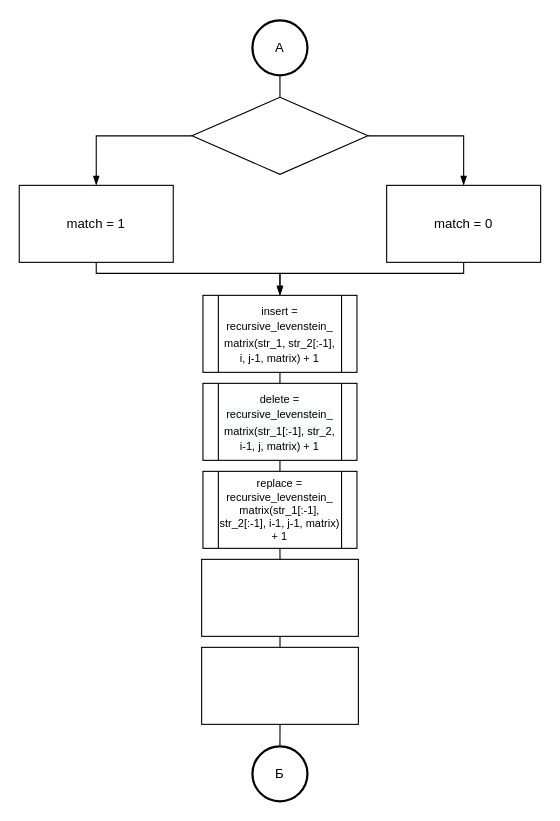
This 560x821 diagram has some shape labels left out. The shapes that lost their labels are listed below. From the top down, each one's centre as x and y in pixels, then its label:
At point (279, 135): "str_1[j-1] равен str_2[i-1]?".
At point (279, 597): "distance = min(insert, delete, replace)".
At point (279, 685): "matrix[i][j] = distance".
